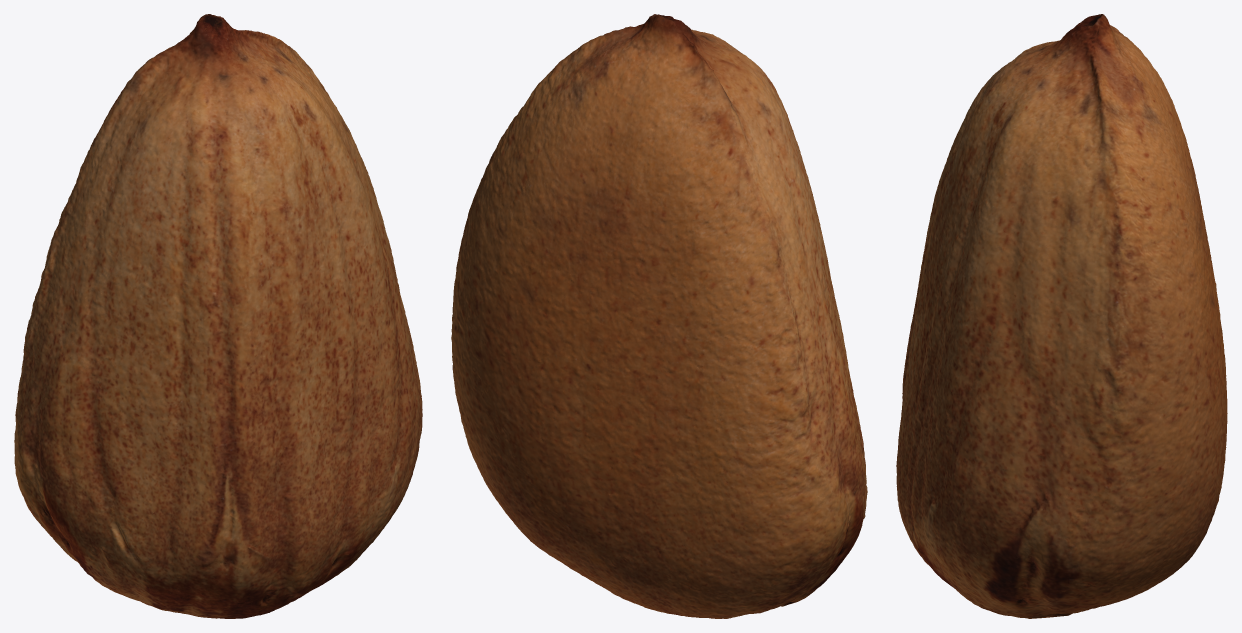
The model's file is nuts.glb.
3 views of the same model, side by side, from view 1: azimuth 30°, elevation 25°; view 2: azimuth 150°, elevation 25°; view 3: azimuth 270°, elevation 25° (orthographic). The views are drawn at different scales.
Parts seen in each view (by area): view 1: Object_4, Object_3, Object_5, Object_6, Object_7, Object_8; view 2: Object_4, Object_5, Object_3, Object_6, Object_7, Object_8; view 3: Object_3, Object_4, Object_5, Object_6, Object_7, Object_8.
Part boxes in pixels (x1,y1,x2,y2): Object_4: (19, 18, 422, 602); Object_3: (14, 22, 420, 612); Object_5: (14, 14, 422, 618); Object_6: (14, 14, 422, 618); Object_7: (14, 14, 422, 618); Object_8: (14, 14, 421, 618); Object_4: (454, 14, 867, 613); Object_5: (453, 17, 867, 618); Object_3: (451, 15, 864, 576); Object_6: (452, 14, 867, 618); Object_7: (452, 14, 866, 618); Object_8: (453, 14, 865, 618); Object_3: (896, 21, 1227, 618); Object_4: (898, 15, 1225, 581); Object_5: (896, 14, 1226, 613); Object_6: (896, 15, 1227, 611); Object_7: (896, 14, 1227, 617); Object_8: (898, 15, 1224, 618).
Bounding box in the file's own units: 1.72 × 2.54 × 1.3.
Materials: 1 (1 with a texture image).
